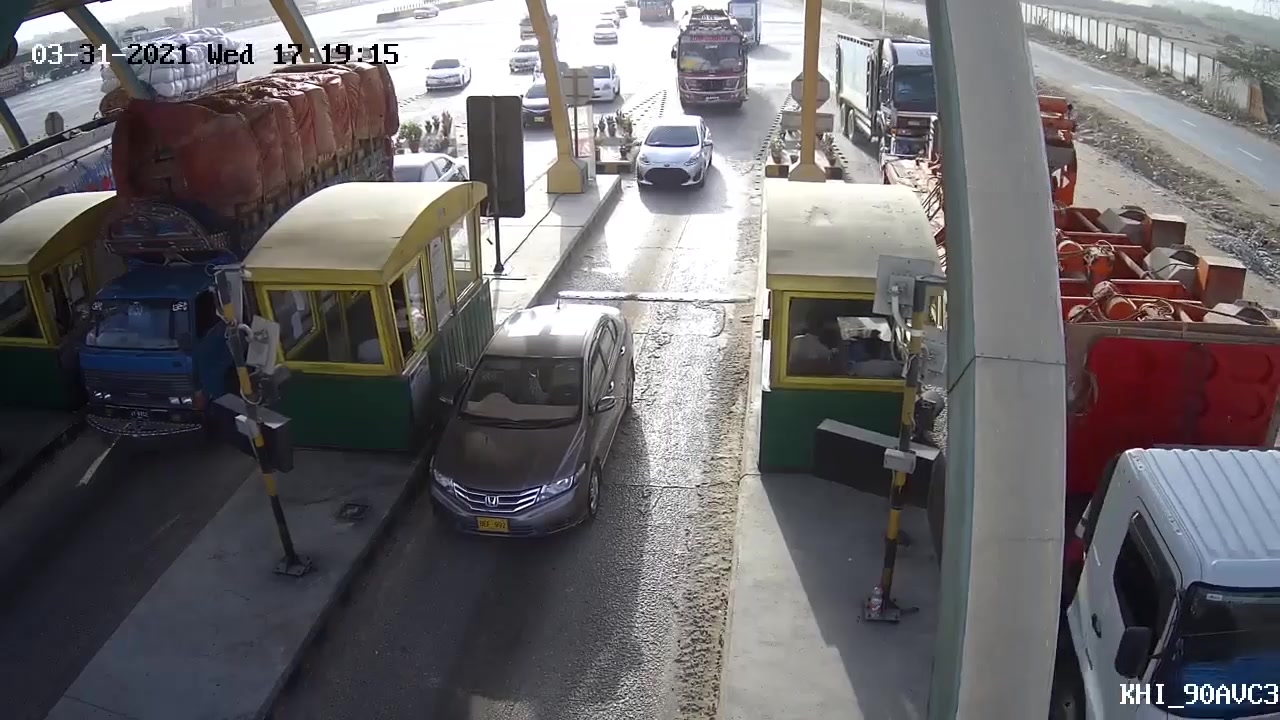F1: (425, 288, 651, 556)
